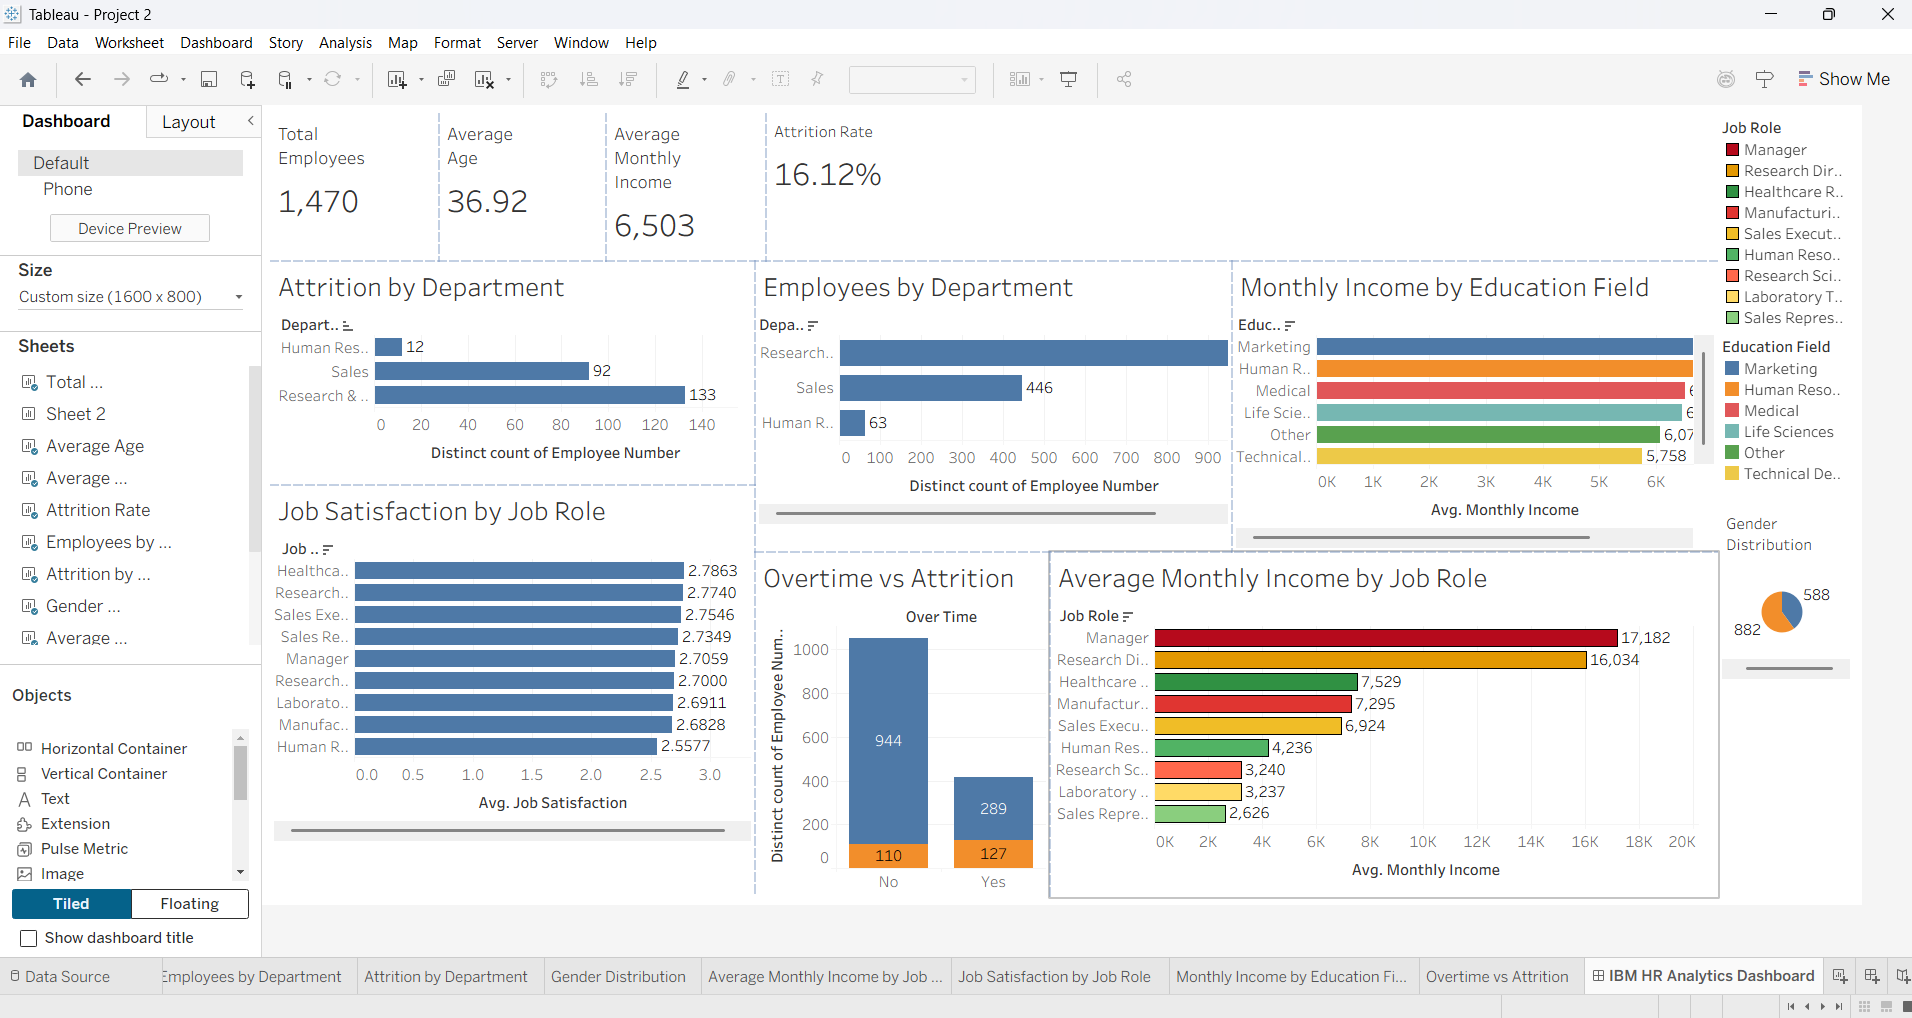

This screenshot's page, from the dashboard's own definition file:
{"tool":"tableau","page":{"name":"IBM HR Analytics Dashboard","canvas":[1600,800],"ordinal":0},"visuals":[{"type":"title","box":[8,8,1584,50]},{"type":"worksheet","title":"Total Employees","mark":"Automatic","box":[8,58,335,129]},{"type":"worksheet","title":"Average Age","mark":"Automatic","box":[343,58,357,129]},{"type":"worksheet","title":"Attrition Rate","mark":"Automatic","box":[700,58,366,129]},{"type":"worksheet","title":"Average Monthly Income","mark":"Automatic","box":[1066,58,353,129]},{"type":"legend","title":"Average Monthly Income by Job Role","param":"[federated.0q7f6xc0z3i7yu1a7pu8t0i80k9f].[none:JobRole:nk]","box":[1419,58,173,219]},{"type":"worksheet","title":"Attrition by Department","mark":"Automatic","rows":["Department"],"cols":["EmployeeNumber"],"box":[8,187,404,263]},{"type":"worksheet","title":"Employees by Department","mark":"Automatic","rows":["Department"],"cols":["EmployeeNumber"],"box":[412,187,426,263]},{"type":"worksheet","title":"Monthly Income by Education Field","mark":"Automatic","rows":["EducationField"],"cols":["MonthlyIncome"],"box":[838,187,581,263]},{"type":"legend","title":"Monthly Income by Education Field","param":"[federated.0q7f6xc0z3i7yu1a7pu8t0i80k9f].[none:EducationField:nk]","box":[1419,277,173,173]},{"type":"worksheet","title":"Job Satisfaction by Job Role","mark":"Automatic","rows":["JobRole"],"cols":["JobSatisfaction"],"box":[8,450,392,342]},{"type":"worksheet","title":"Overtime vs Attrition","mark":"Automatic","rows":["EmployeeNumber"],"cols":["OverTime"],"box":[400,450,356,342]},{"type":"worksheet","title":"Average Monthly Income by Job Role","mark":"Automatic","rows":["JobRole"],"cols":["MonthlyIncome"],"box":[756,450,663,342]},{"type":"worksheet","title":"Gender Distribution","mark":"Pie","box":[1419,450,173,179]},{"type":"legend","title":"Gender Distribution","param":"[federated.0q7f6xc0z3i7yu1a7pu8t0i80k9f].[none:Gender:nk]","box":[1419,629,173,72]}]}

Visuals, with their boxes on the page's 1600x800 design canvas (x1, y1, x2, y2). These are canvas units, not pixel positions in the 1912x1018 screenshot, which may show the page scaled, cropped or inside an application window:
title: {"left": 8, "top": 8, "right": 1592, "bottom": 58}
"Total Employees" worksheet: {"left": 8, "top": 58, "right": 343, "bottom": 187}
"Average Age" worksheet: {"left": 343, "top": 58, "right": 700, "bottom": 187}
"Attrition Rate" worksheet: {"left": 700, "top": 58, "right": 1066, "bottom": 187}
"Average Monthly Income" worksheet: {"left": 1066, "top": 58, "right": 1419, "bottom": 187}
"Average Monthly Income by Job Role" legend: {"left": 1419, "top": 58, "right": 1592, "bottom": 277}
"Attrition by Department" worksheet: {"left": 8, "top": 187, "right": 412, "bottom": 450}
"Employees by Department" worksheet: {"left": 412, "top": 187, "right": 838, "bottom": 450}
"Monthly Income by Education Field" worksheet: {"left": 838, "top": 187, "right": 1419, "bottom": 450}
"Monthly Income by Education Field" legend: {"left": 1419, "top": 277, "right": 1592, "bottom": 450}
"Job Satisfaction by Job Role" worksheet: {"left": 8, "top": 450, "right": 400, "bottom": 792}
"Overtime vs Attrition" worksheet: {"left": 400, "top": 450, "right": 756, "bottom": 792}
"Average Monthly Income by Job Role" worksheet: {"left": 756, "top": 450, "right": 1419, "bottom": 792}
"Gender Distribution" worksheet (Pie marks): {"left": 1419, "top": 450, "right": 1592, "bottom": 629}
"Gender Distribution" legend: {"left": 1419, "top": 629, "right": 1592, "bottom": 701}
